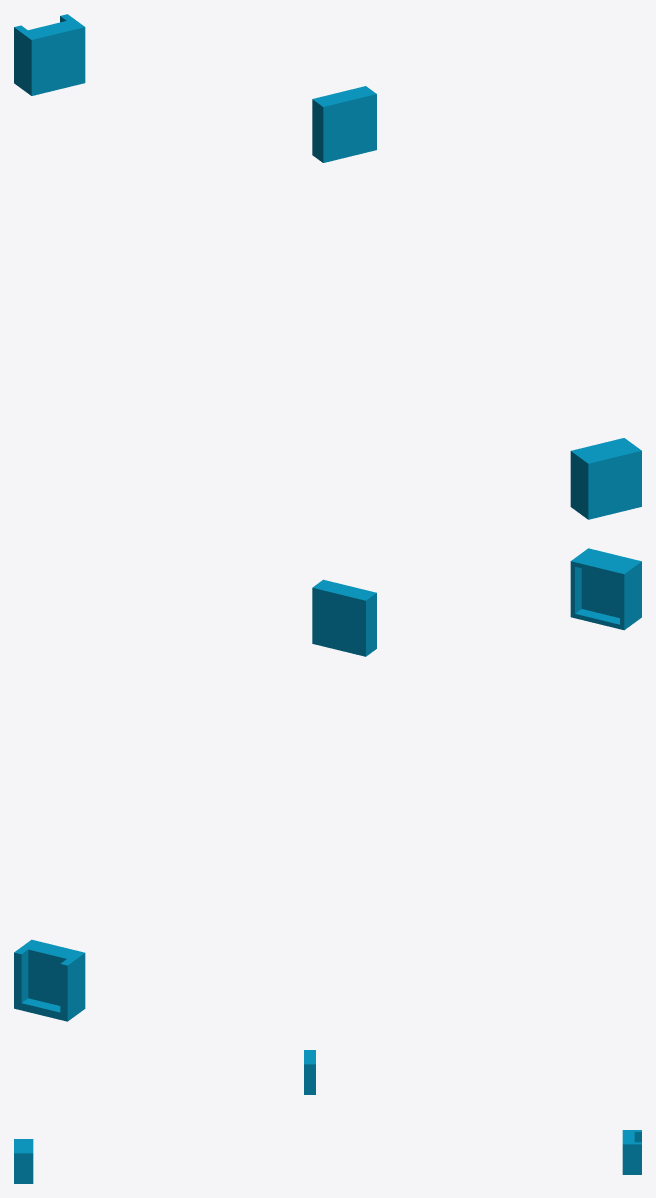
The model's file is Stage9.fbx.
The picture shows the model from 3 angles, top to bottom: view 1: azimuth 30°, elevation 25°; view 2: azimuth 150°, elevation 25°; view 3: azimuth 270°, elevation 25°; orthographic projection. The views are drawn at different scales.
Parts seen in each view (by area): view 1: Cube; view 2: Cube; view 3: Cube.
Part boxes in pixels (x1,y1,x2,y2): Cube: (14,14,641,519); Cube: (14,548,641,1021); Cube: (14,1050,641,1183).
Bounding box in the file's own units: 200 × 780 × 3712.
